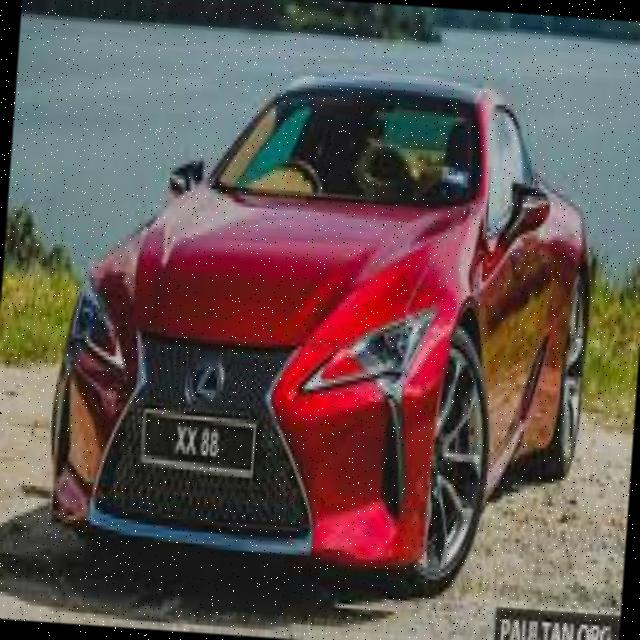License_Plate: (142, 411, 255, 476)
car: (37, 59, 612, 599)
